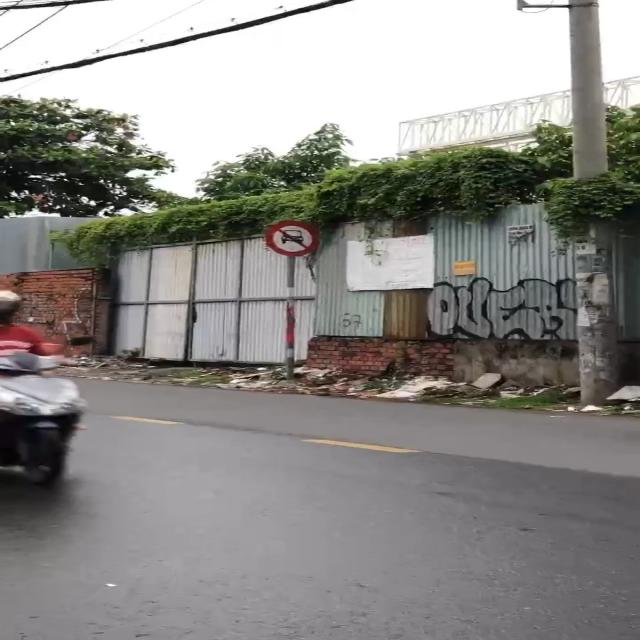Bien bao cam xe oto: (259, 218, 320, 256)
